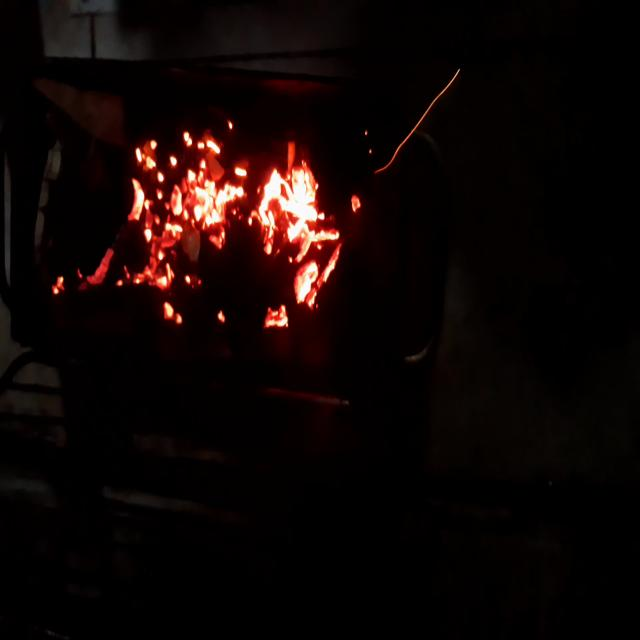Fire: (35, 88, 393, 342)
